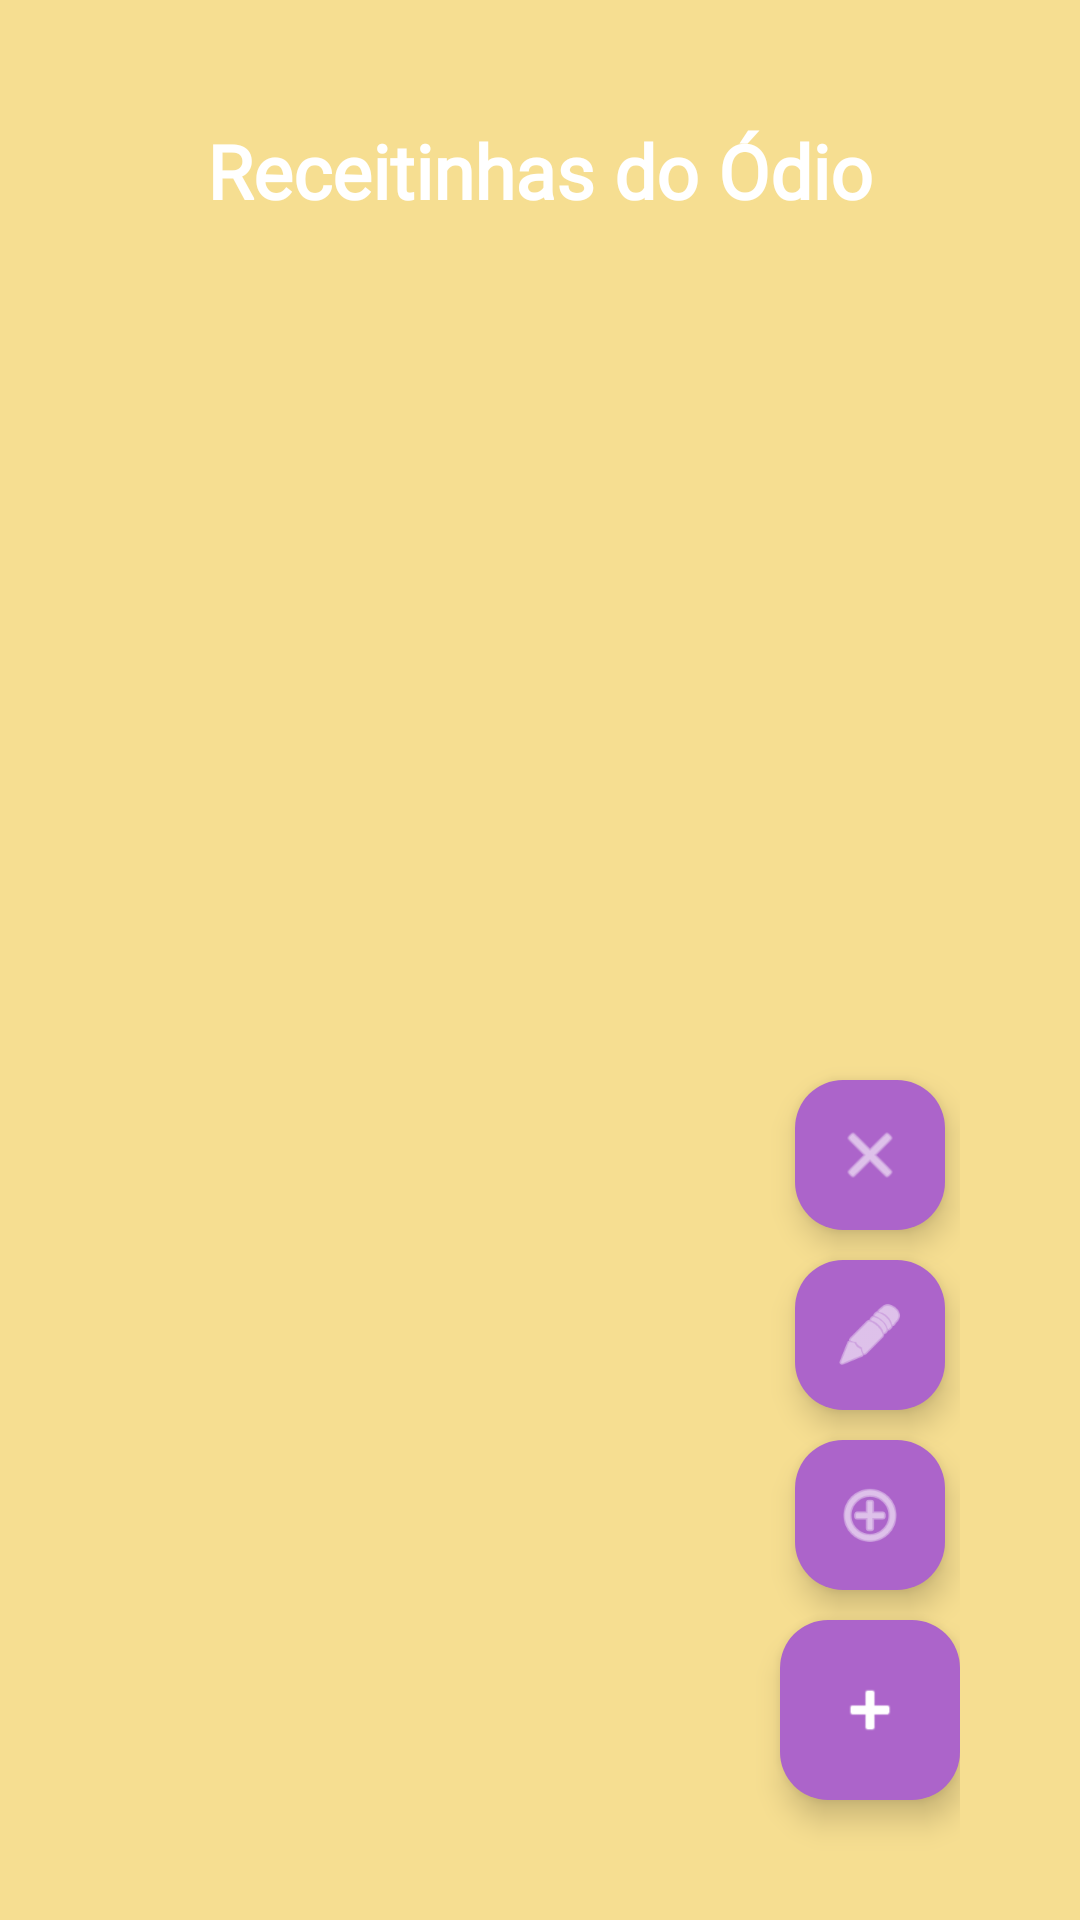

Icon bounding boxes for this 1080×1920 phone screenshot, format box(x1, y1, x2, y2):
add: box(795, 1440, 945, 1590), box(780, 1620, 960, 1800)
close clear cancel: box(795, 1080, 945, 1230)
edit: box(795, 1260, 945, 1410)
